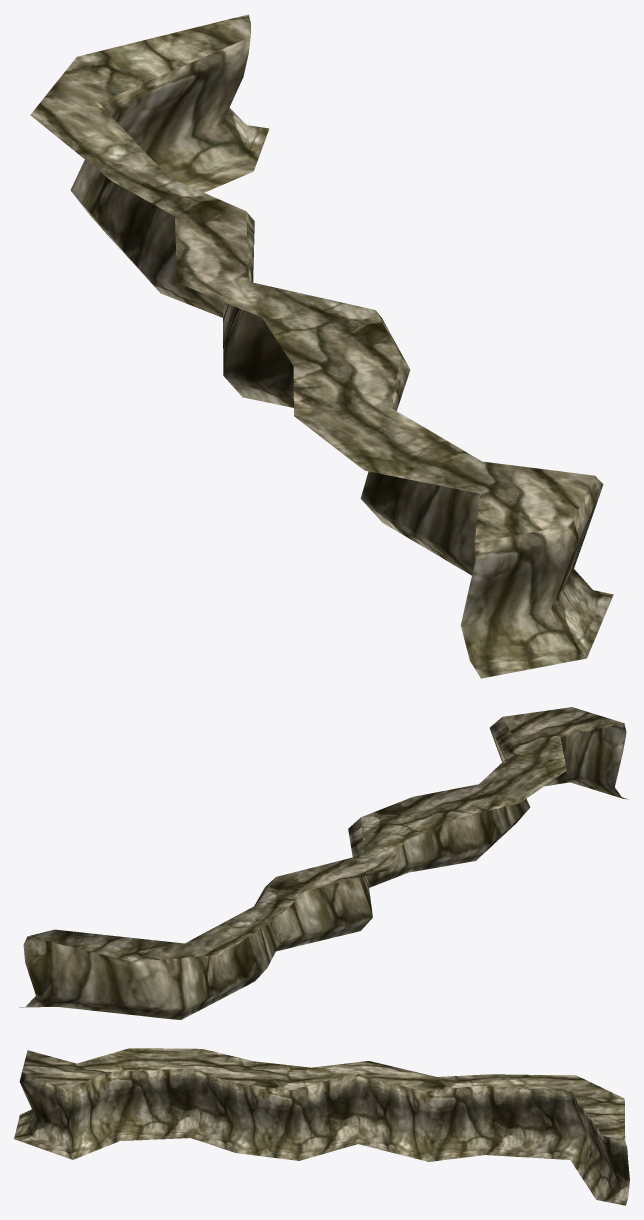
The model's file is CB_NEWPLAYSURFACE_CB_PLAYSURFACE73.fbx.
The picture shows the model from 3 angles, top to bottom: view 1: azimuth 30°, elevation 25°; view 2: azimuth 150°, elevation 25°; view 3: azimuth 270°, elevation 25°; orthographic projection. The views are drawn at different scales.
Visible parts, largest first — view 1: CB_NEWPLAYSURFACE_CB_PLAYSURFACE73; view 2: CB_NEWPLAYSURFACE_CB_PLAYSURFACE73; view 3: CB_NEWPLAYSURFACE_CB_PLAYSURFACE73.
Boxes of the visible parts, box(x1,y1,x2,y2) form: CB_NEWPLAYSURFACE_CB_PLAYSURFACE73: box(30, 14, 613, 678); CB_NEWPLAYSURFACE_CB_PLAYSURFACE73: box(19, 707, 628, 1019); CB_NEWPLAYSURFACE_CB_PLAYSURFACE73: box(14, 1048, 629, 1205).
Size of the model in its own units: 114720 by 35509 by 304790.
Materials: 2 (2 with a texture image).
